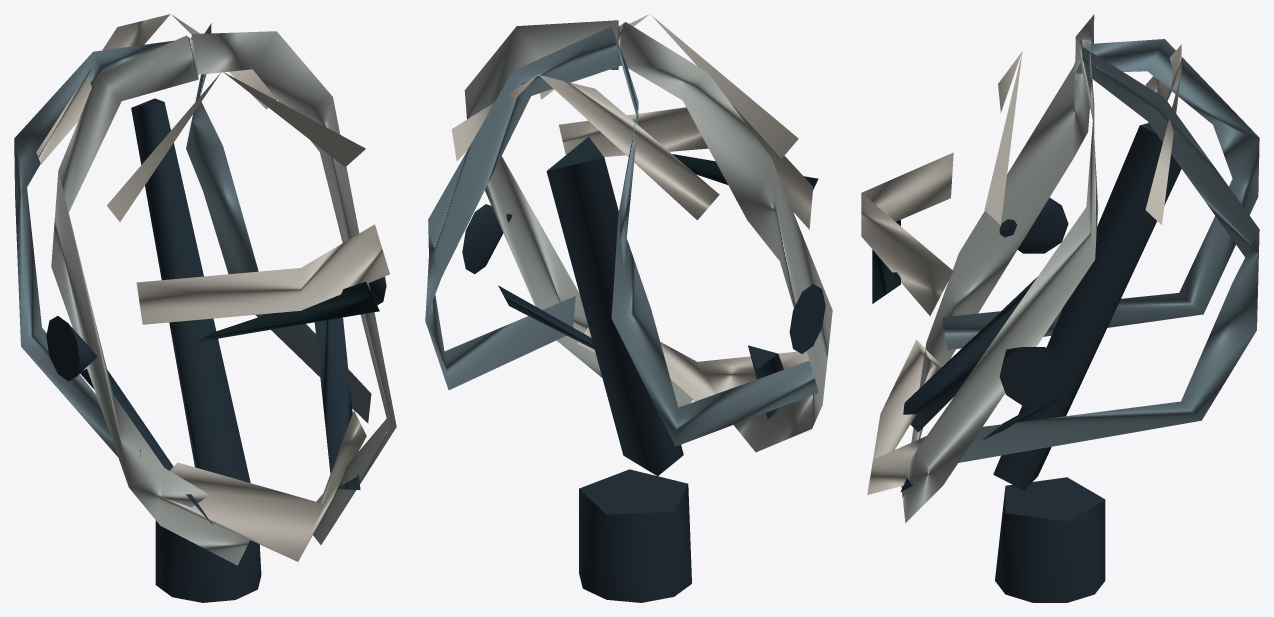
File: aurel03_head_d0_lod2.glb
3 renders of one model, left to right at view 1: azimuth 30°, elevation 25°; view 2: azimuth 150°, elevation 25°; view 3: azimuth 270°, elevation 25°, orthographic. The views are drawn at different scales.
Parts seen in each view (by area): view 1: DISTANCE_SURFACE; view 2: DISTANCE_SURFACE; view 3: DISTANCE_SURFACE.
Part boxes in pixels (x1,y1,x2,y2): DISTANCE_SURFACE: (14,14,396,602); DISTANCE_SURFACE: (425,14,832,602); DISTANCE_SURFACE: (861,14,1259,602).
Bounding box in the file's own units: 0.157 × 0.2601 × 0.173.
